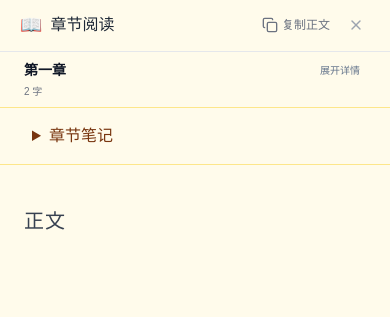
it: NodeDetailDrawer › collapses chapter characters and elements together in App mode
Click the button "展开详情" at (340, 70), box [314, 60, 366, 80]
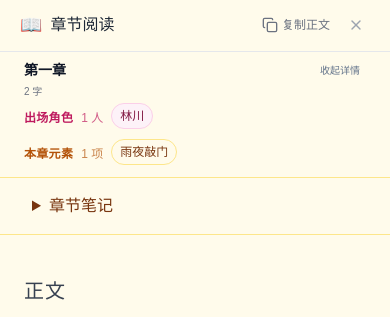
Check: the text "林川" is shown, box [120, 108, 144, 124]
Click the button "收起详情" at (340, 70), box [314, 60, 366, 80]
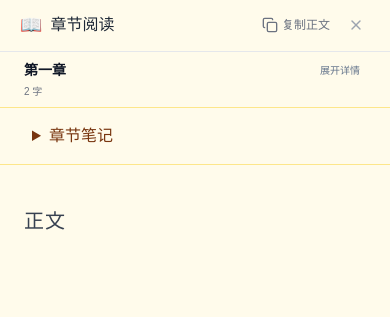
Check: the button "林川" is gone
Check: the text "雨夜敲门" is gone
Check: the button "展开详情" is shown, box [314, 60, 366, 80]
